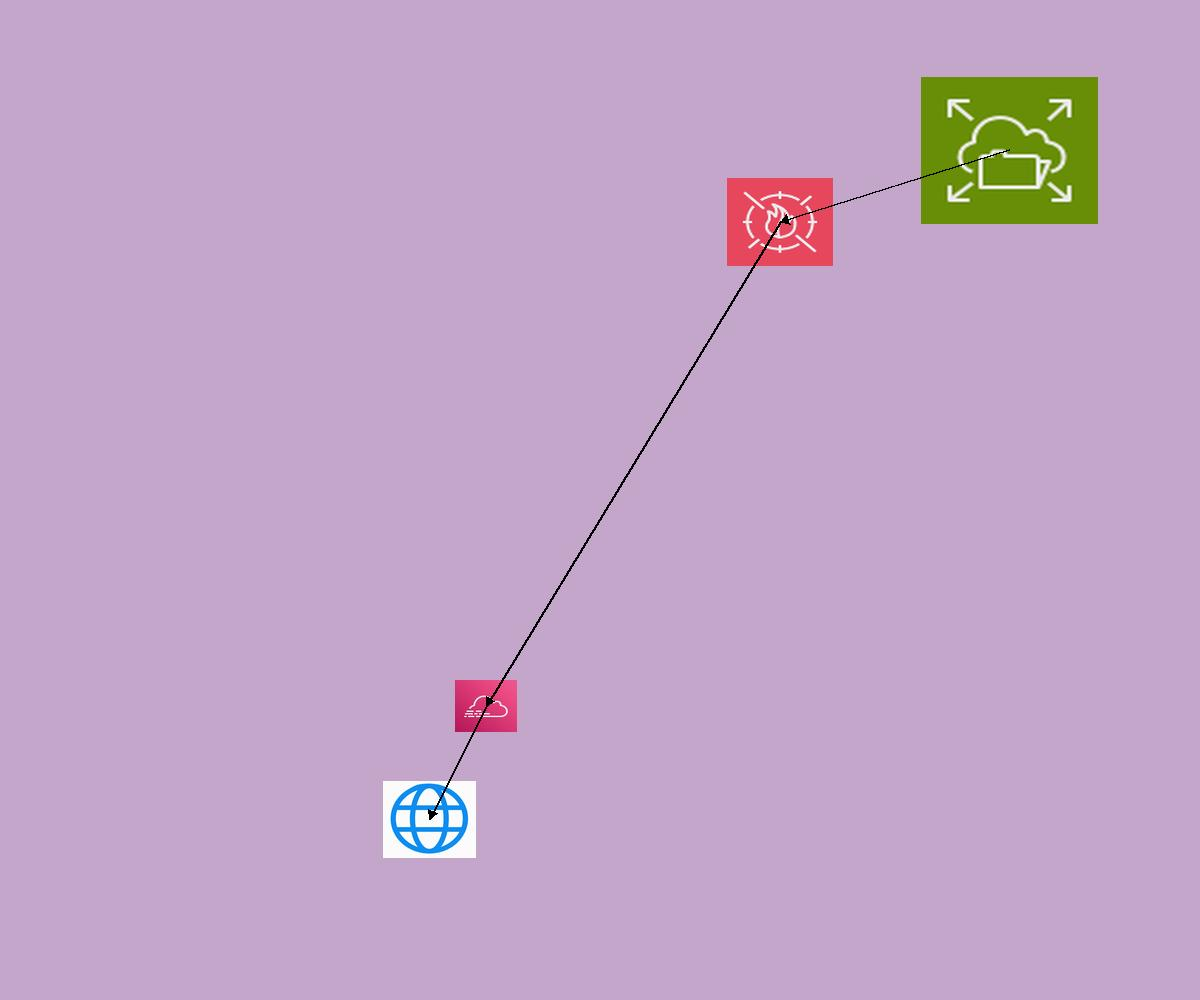AWS-CloudTrail: (455, 680, 517, 732)
AWS-EFS: (921, 77, 1098, 224)
AWS-WAF: (727, 178, 833, 266)
Azure_http: (383, 781, 476, 858)
